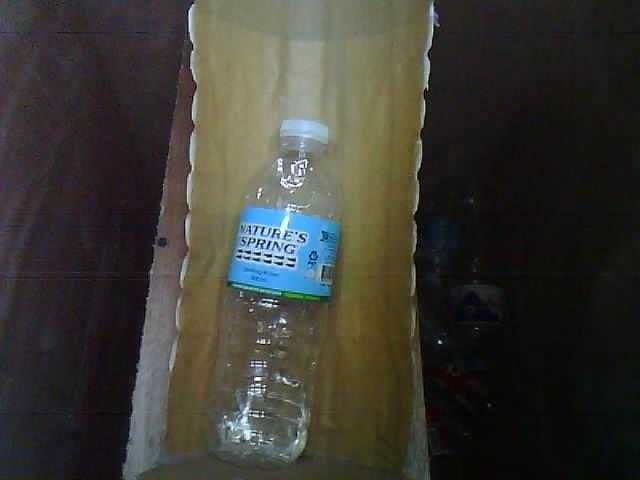small_bottle: (195, 109, 381, 480)
